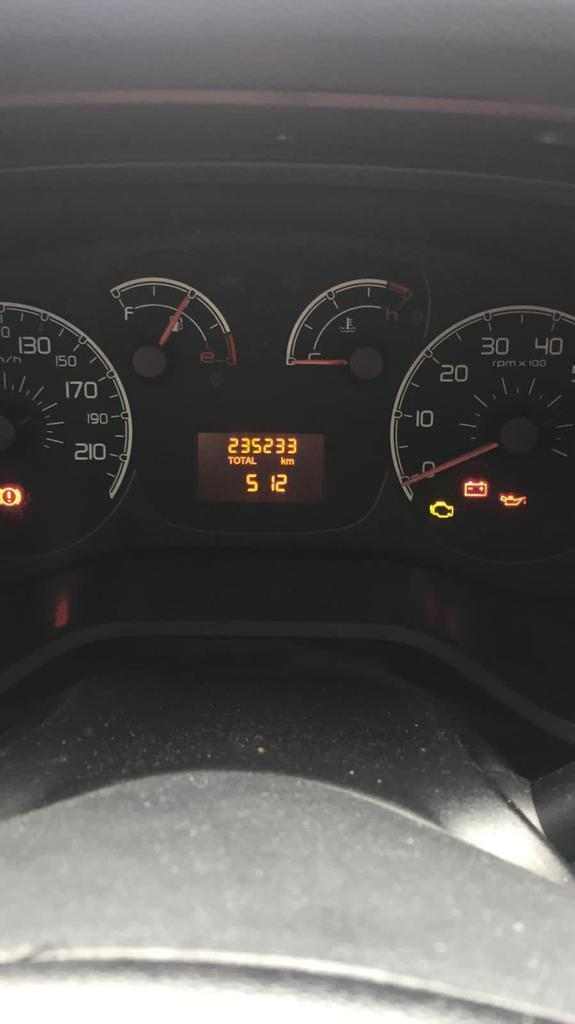1: (270, 473, 275, 492)
2: (276, 472, 287, 493), (226, 436, 239, 453), (262, 437, 273, 454)
3: (286, 437, 297, 454), (275, 437, 285, 454), (240, 436, 249, 454)
5: (244, 472, 258, 493), (250, 437, 261, 454)
X: (285, 457, 294, 465), (233, 455, 240, 464), (251, 456, 258, 465), (227, 455, 233, 464), (240, 455, 246, 464), (245, 456, 251, 464), (280, 456, 285, 465)
odometer: (193, 427, 328, 507)
